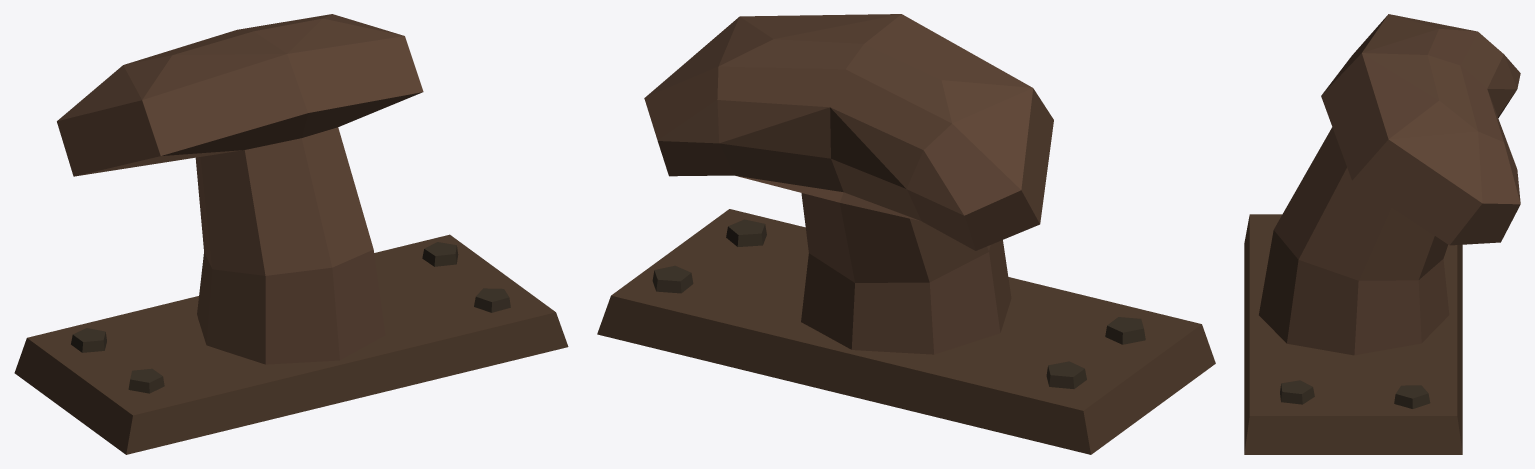
Rendered from SM_Env_PortEdge_Post_01.fbx.
3 renders of one model, left to right at view 1: azimuth 30°, elevation 25°; view 2: azimuth 150°, elevation 25°; view 3: azimuth 270°, elevation 25°, orthographic. The views are drawn at different scales.
Parts seen in each view (by area): view 1: SM_Env_PortEdge_Post_01; view 2: SM_Env_PortEdge_Post_01; view 3: SM_Env_PortEdge_Post_01.
Part boxes in pixels (x1,y1,x2,y2): SM_Env_PortEdge_Post_01: (14,14,568,454); SM_Env_PortEdge_Post_01: (597,14,1215,454); SM_Env_PortEdge_Post_01: (1244,14,1520,454).
Bounding box in the file's own units: 129 × 84.6 × 71.52.
